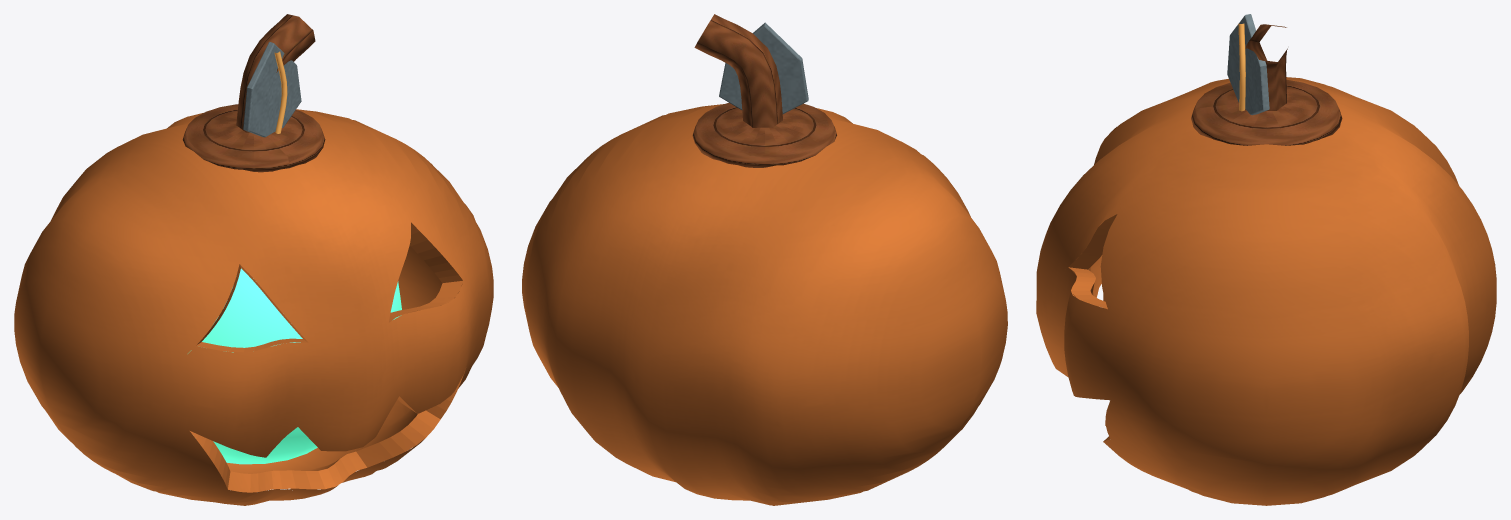
The model's file is grinning-lantern-pumpkin.glb.
3 views of the same model, side by side, from view 1: azimuth 30°, elevation 25°; view 2: azimuth 150°, elevation 25°; view 3: azimuth 270°, elevation 25° (orthographic). The views are drawn at different scales.
Parts seen in each view (by area): view 1: carved-grin-pumpkin; view 2: carved-grin-pumpkin; view 3: carved-grin-pumpkin.
Part boxes in pixels (x1=…): carved-grin-pumpkin: x1=14, y1=14, x2=493, y2=505; carved-grin-pumpkin: x1=522, y1=14, x2=1007, y2=505; carved-grin-pumpkin: x1=1036, y1=14, x2=1496, y2=505.
Bounding box in the file's own units: 0.8 × 0.8072 × 0.7097.
Materials: 5 (3 with a texture image).
